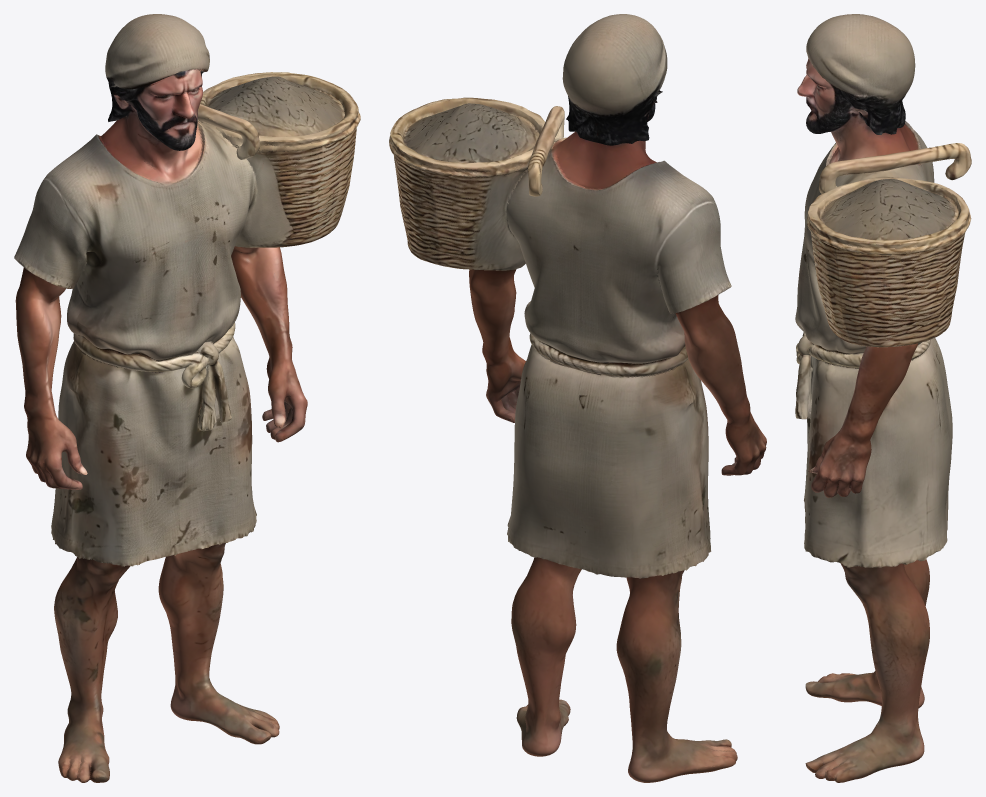
File: schiavo1.glb
3 views of the same model, side by side, from view 1: azimuth 30°, elevation 25°; view 2: azimuth 150°, elevation 25°; view 3: azimuth 270°, elevation 25° (orthographic).
Visible parts, largest first — view 1: model; view 2: model; view 3: model.
Part boxes in pixels (x1,y1,x2,y2): model: (14, 14, 360, 782); model: (389, 14, 766, 782); model: (795, 14, 971, 782).
Bounding box in the file's own units: 0.8336 × 1.72 × 0.3841.
Materials: 1 (1 with a texture image).
